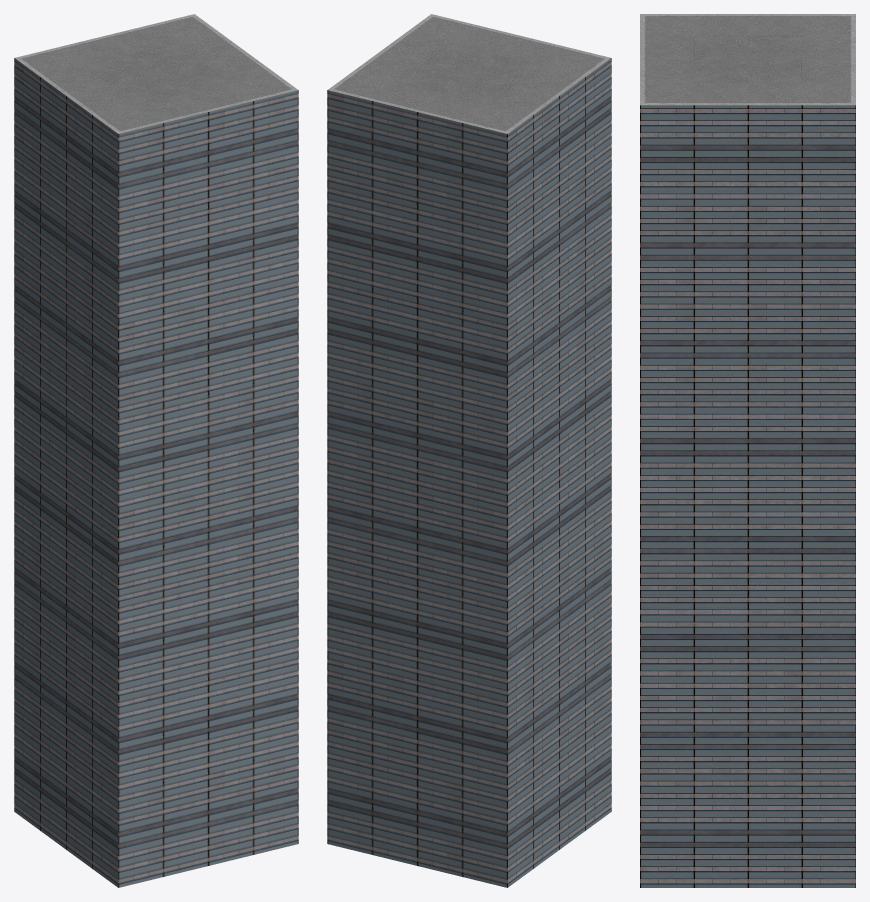
File: largebuilding3.obj
The picture shows the model from 3 angles, left to right: view 1: azimuth 30°, elevation 25°; view 2: azimuth 150°, elevation 25°; view 3: azimuth 270°, elevation 25°; orthographic projection. The views are drawn at different scales.
Visible parts, largest first — view 1: Building_square_lambert1_0; view 2: Building_square_lambert1_0; view 3: Building_square_lambert1_0.
Boxes of the visible parts, x1,y1,x2,y2 form: Building_square_lambert1_0: [14, 14, 298, 887]; Building_square_lambert1_0: [327, 14, 611, 887]; Building_square_lambert1_0: [640, 14, 855, 887].
Size of the model in its own units: 30 by 120 by 30.
